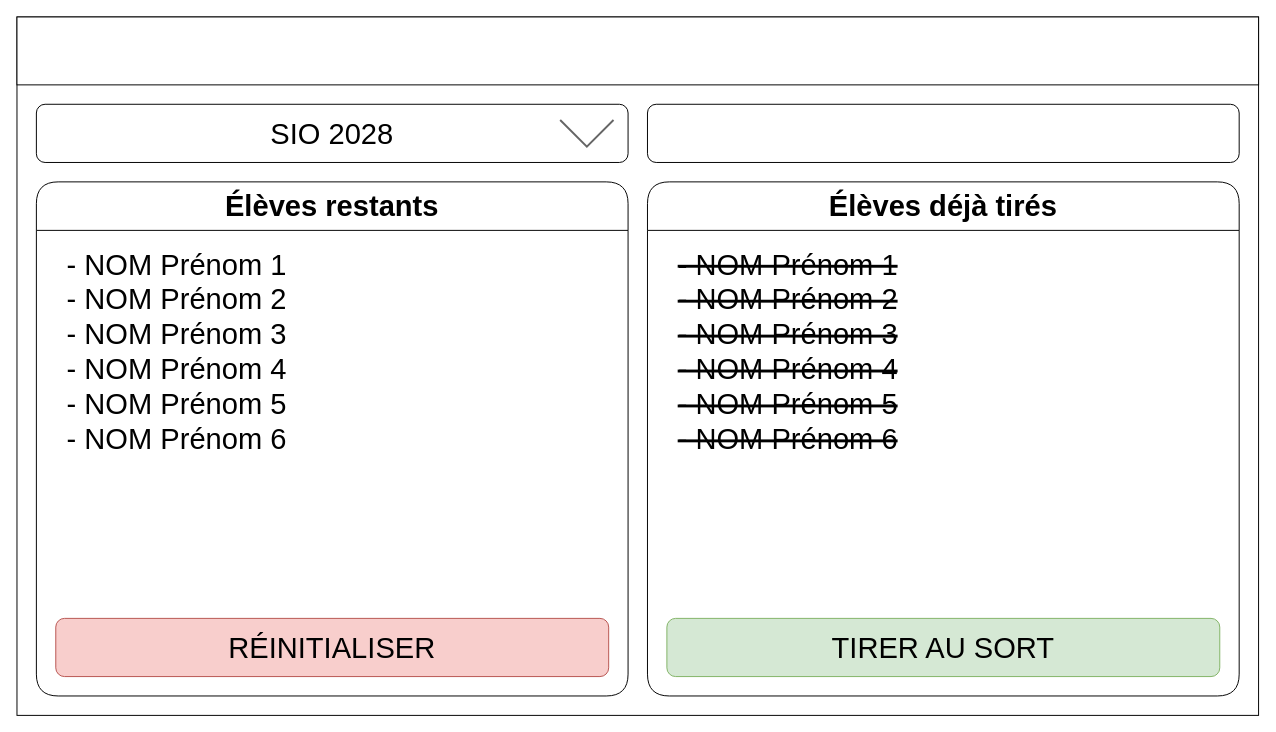
Some shapes in this 1276 by 732 pixel diagram are drawn without their labels. The centre of each missing label's shape, as x and y in pixels:
NOM Prénom: point 943,132
ROULETTE: point 637,50
